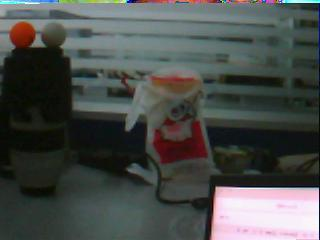oball: (10, 23, 36, 47)
